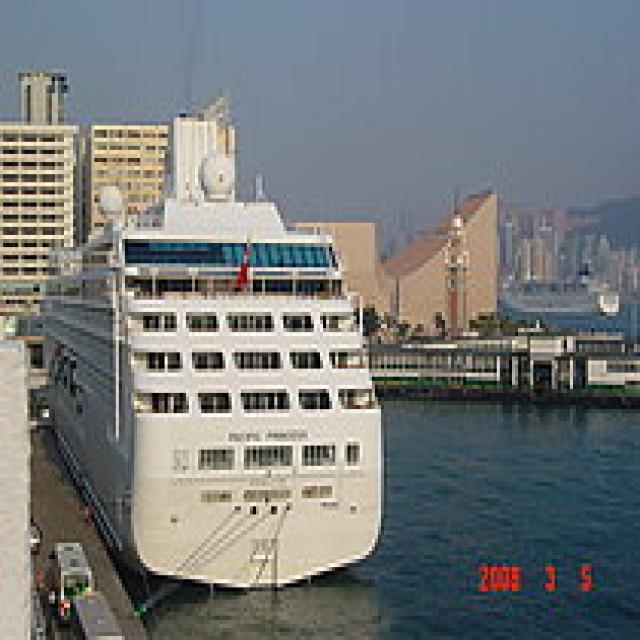Ship: (26, 139, 398, 597)
